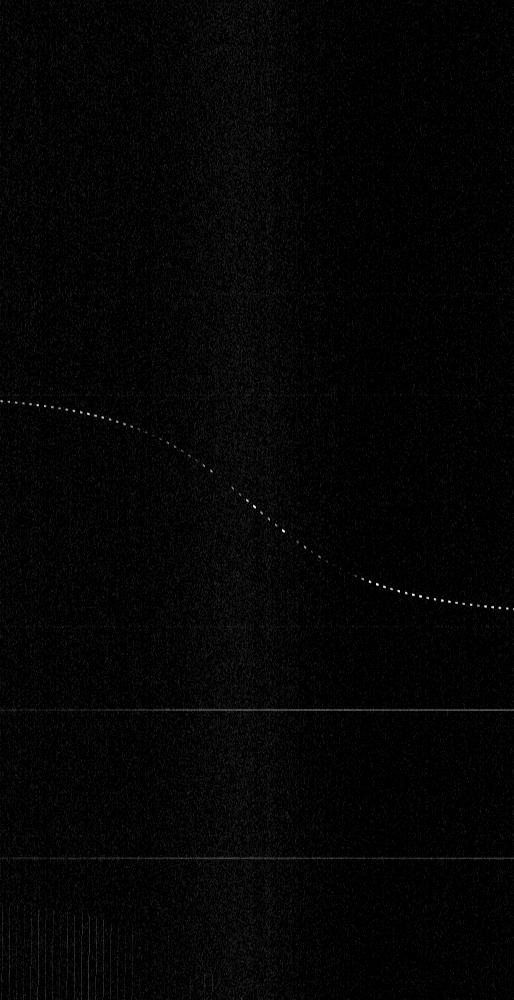signal: (0, 0, 513, 999)
